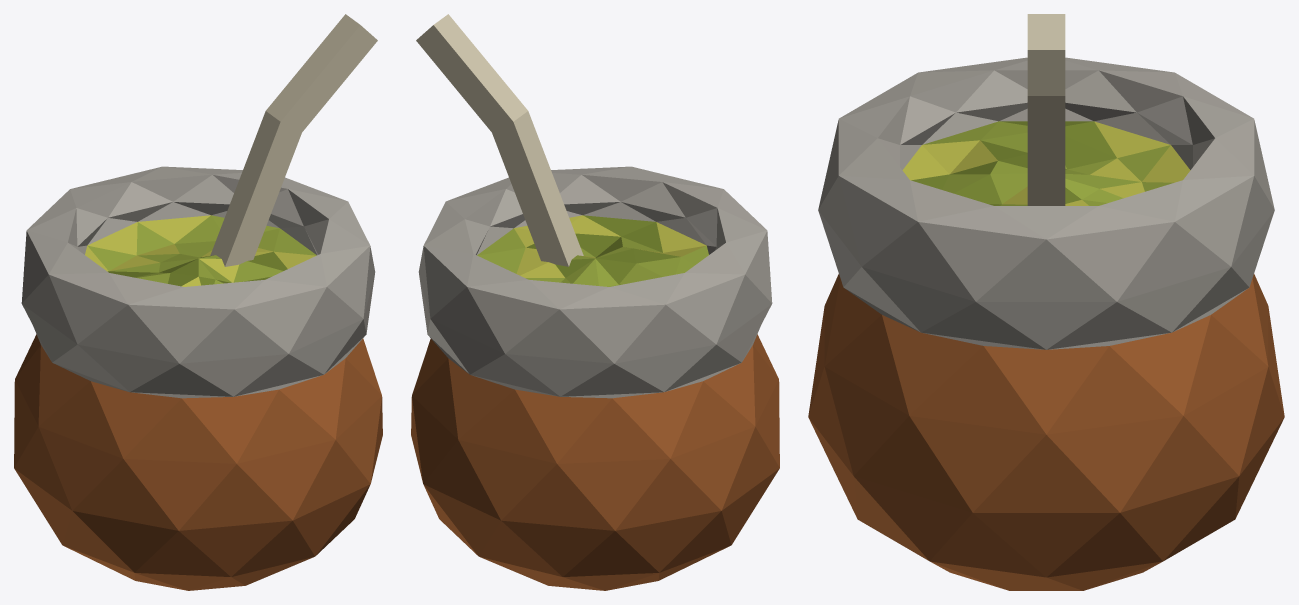
File: Mate.glb
3 views of the same model, side by side, from view 1: azimuth 30°, elevation 25°; view 2: azimuth 150°, elevation 25°; view 3: azimuth 270°, elevation 25° (orthographic). The views are drawn at different scales.
Visible parts, largest first — view 1: Mate; view 2: Mate; view 3: Mate.
Boxes of the visible parts, box(x1,y1,x2,y2) form: Mate: box(14, 14, 382, 590); Mate: box(411, 14, 779, 590); Mate: box(808, 14, 1284, 590).
Size of the model in its own units: 0.0976 by 0.1388 by 0.096.
